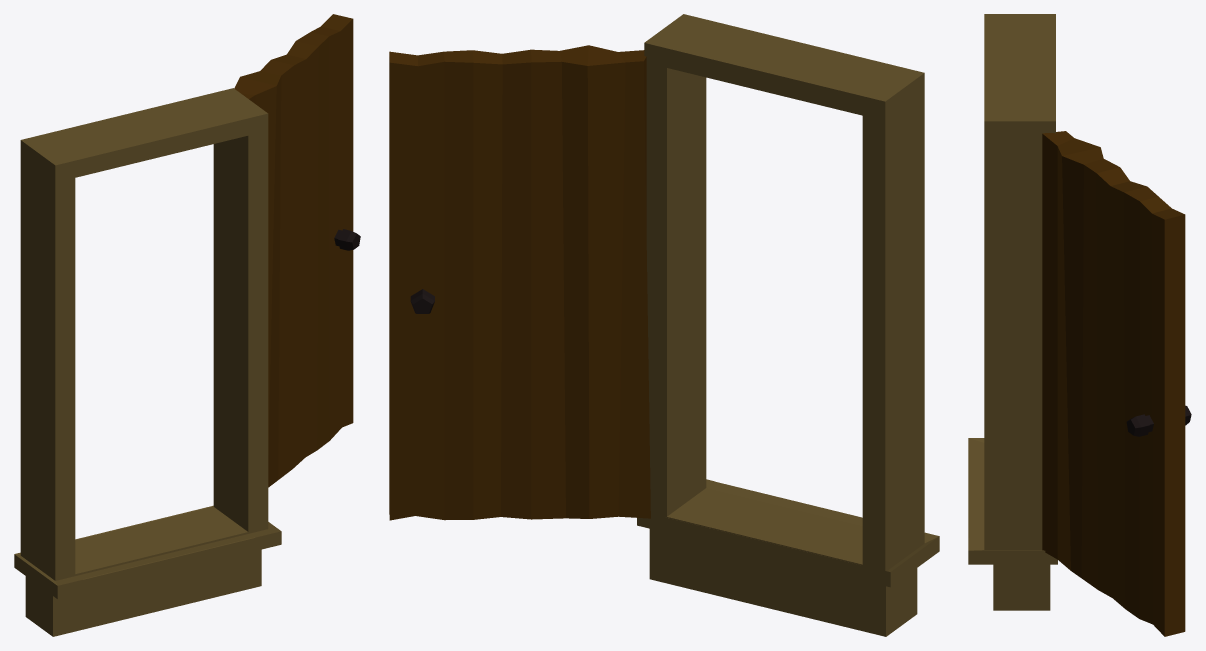
The model's file is porte.fbx.
The picture shows the model from 3 angles, left to right: view 1: azimuth 30°, elevation 25°; view 2: azimuth 150°, elevation 25°; view 3: azimuth 270°, elevation 25°; orthographic projection. The views are drawn at different scales.
Parts seen in each view (by area): view 1: Cube, Cube.004; view 2: Cube.004, Cube; view 3: Cube.004, Cube.
Boxes of the visible parts, bbox=[...] form: Cube: bbox=[14, 88, 281, 636]; Cube.004: bbox=[234, 14, 360, 487]; Cube.004: bbox=[389, 45, 650, 520]; Cube: bbox=[637, 14, 939, 636]; Cube.004: bbox=[1042, 131, 1191, 636]; Cube: bbox=[968, 14, 1057, 610].
Size of the model in its own units: 1355 by 1575 by 650.
